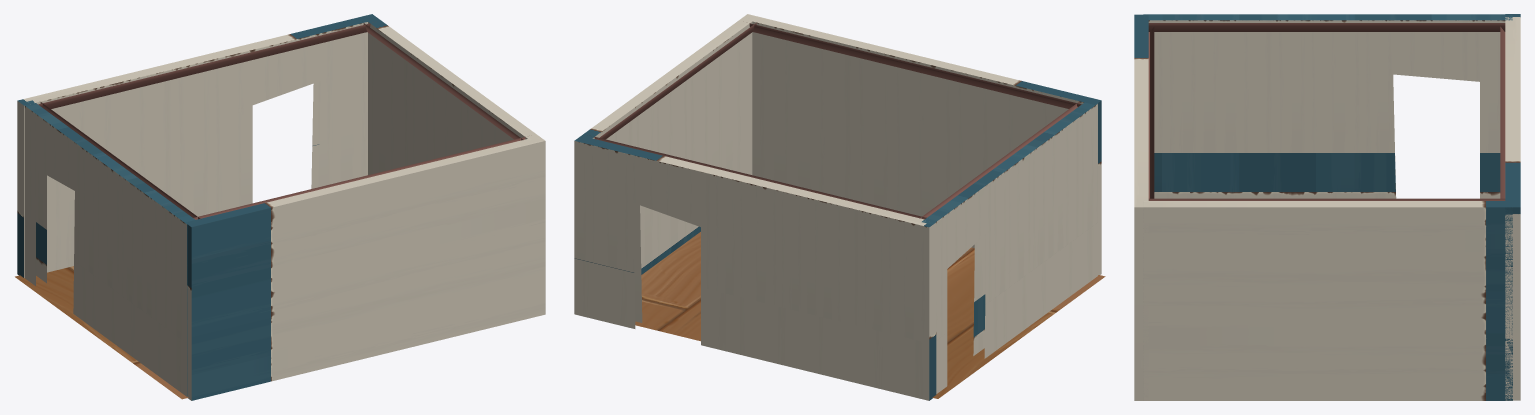
Rendered from LargeWall.fbx.
The picture shows the model from 3 angles, left to right: view 1: azimuth 30°, elevation 25°; view 2: azimuth 150°, elevation 25°; view 3: azimuth 270°, elevation 25°; orthographic projection. The views are drawn at different scales.
Parts seen in each view (by area): view 1: Midnight_Antics_Bedroom (1); view 2: Midnight_Antics_Bedroom (1); view 3: Midnight_Antics_Bedroom (1).
Part boxes in pixels (bbox=[...]): Midnight_Antics_Bedroom (1): bbox=[15, 14, 545, 400]; Midnight_Antics_Bedroom (1): bbox=[574, 14, 1105, 400]; Midnight_Antics_Bedroom (1): bbox=[1134, 14, 1520, 400].
Bounding box in the file's own units: 65226 × 30025 × 54258.
